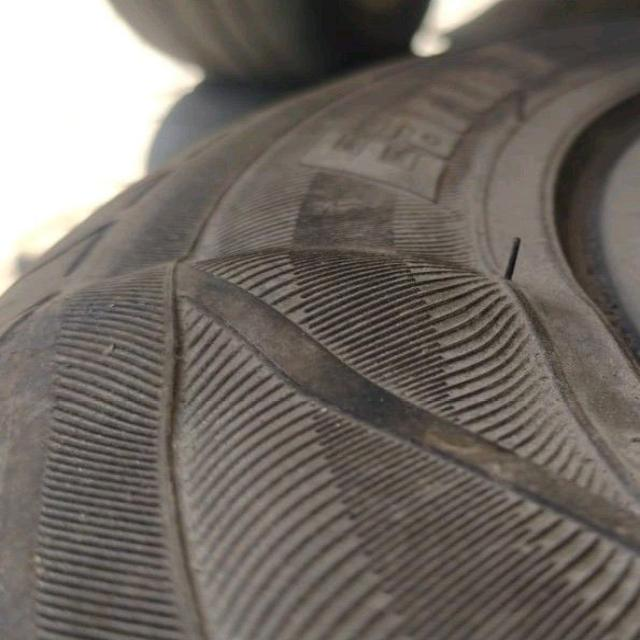Bulge: (29, 237, 605, 406)
